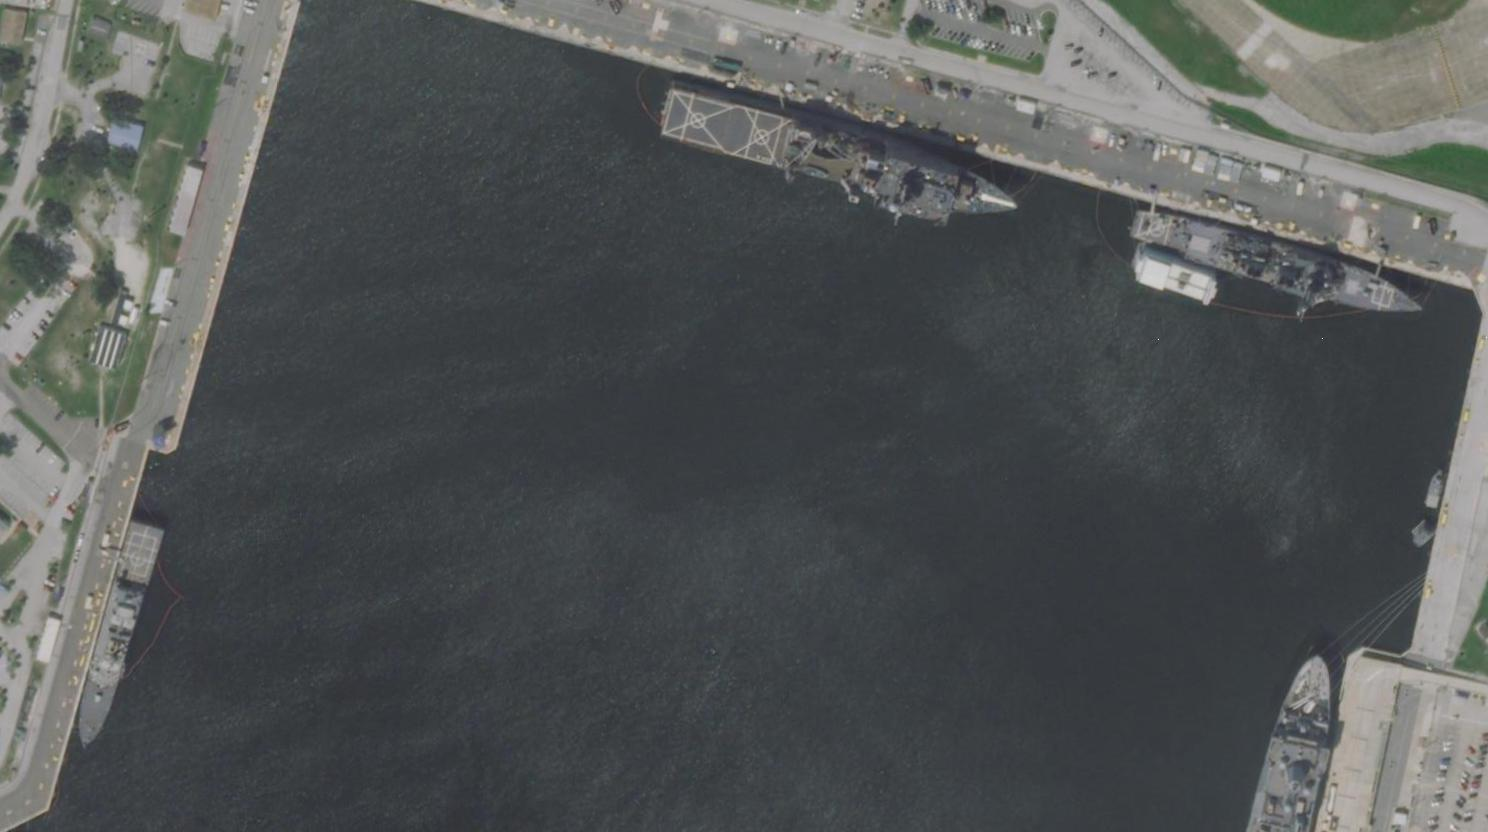amphiby: (646, 74, 1026, 238)
fregate: (1135, 201, 1429, 323)
patrol: (72, 511, 174, 759)
